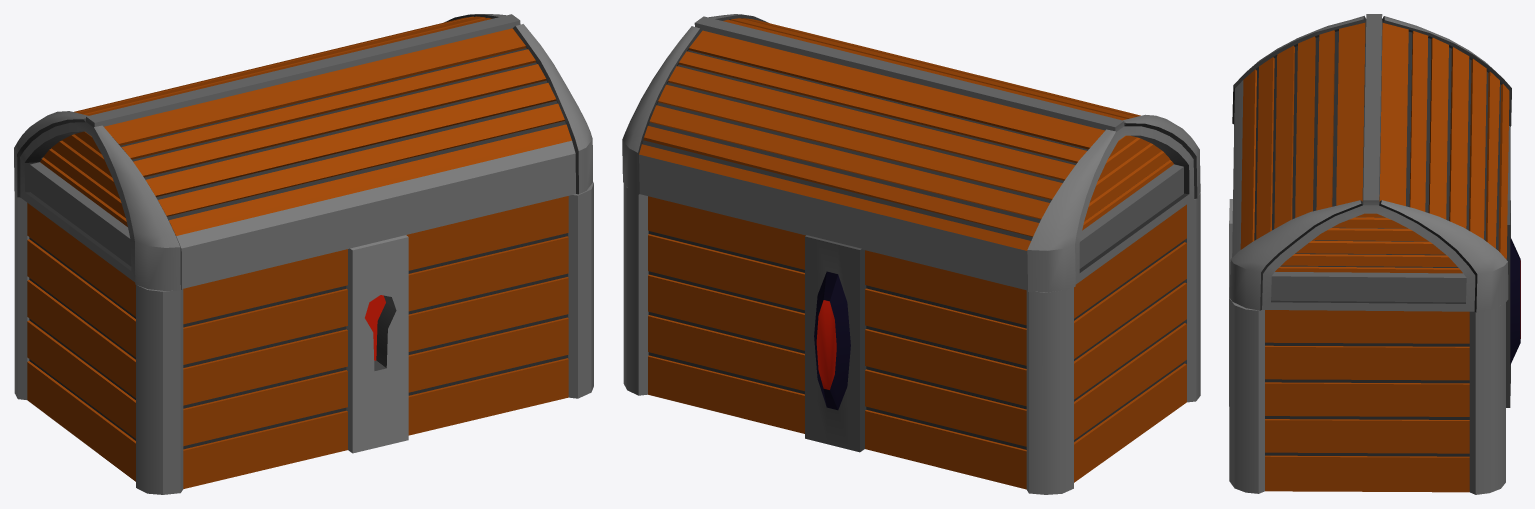
The model's file is Mimic_Closed.fbx.
3 renders of one model, left to right at view 1: azimuth 30°, elevation 25°; view 2: azimuth 150°, elevation 25°; view 3: azimuth 270°, elevation 25°, orthographic. The views are drawn at different scales.
Parts seen in each view (by area): view 1: Cube.001; view 2: Cube.001; view 3: Cube.001.
Part boxes in pixels (box(x1,y1,x2,y2)): Cube.001: box(14, 14, 593, 494); Cube.001: box(622, 14, 1200, 494); Cube.001: box(1229, 14, 1520, 494).
Bounding box in the file's own units: 110 × 73.83 × 67.56.
2 materials, 2 textured.
